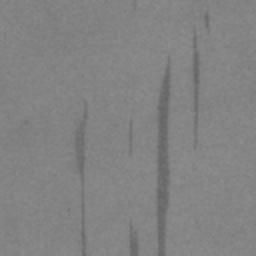Red iron sheet: (156, 63, 171, 256), (74, 102, 88, 183), (192, 35, 201, 136), (80, 203, 87, 256), (129, 225, 139, 256), (203, 12, 210, 29), (129, 129, 133, 154)
